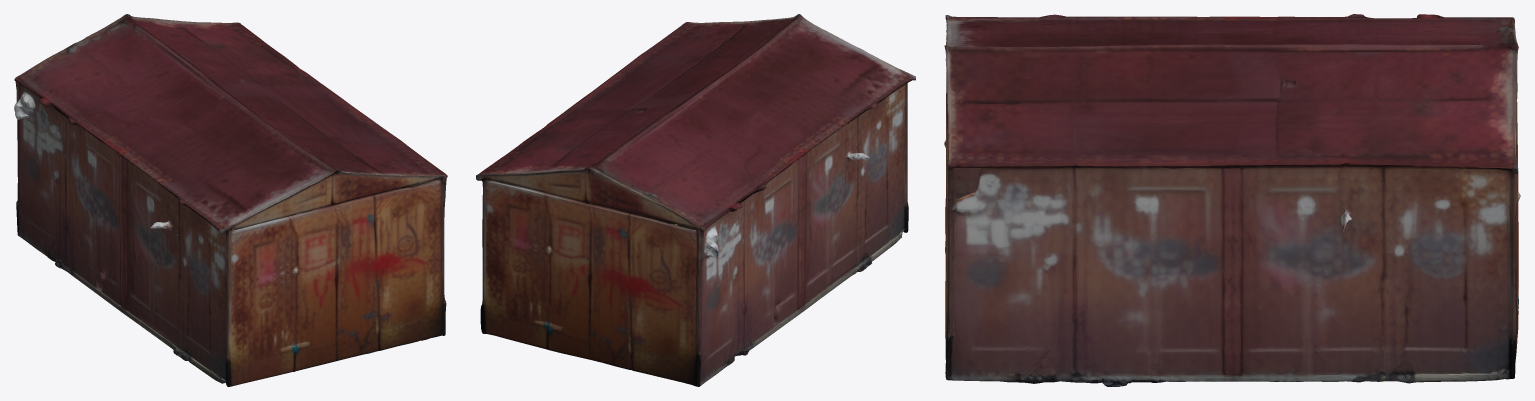
The model's file is Garaj_3.fbx.
The picture shows the model from 3 angles, left to right: view 1: azimuth 30°, elevation 25°; view 2: azimuth 150°, elevation 25°; view 3: azimuth 270°, elevation 25°; orthographic projection. The views are drawn at different scales.
Parts seen in each view (by area): view 1: world.003; view 2: world.003; view 3: world.003.
Part boxes in pixels (box(x1,y1,x2,y2)): world.003: box(14, 14, 447, 386); world.003: box(476, 14, 915, 386); world.003: box(944, 14, 1520, 386).
Size of the model in its own units: 68.34 by 50.93 by 99.43.
